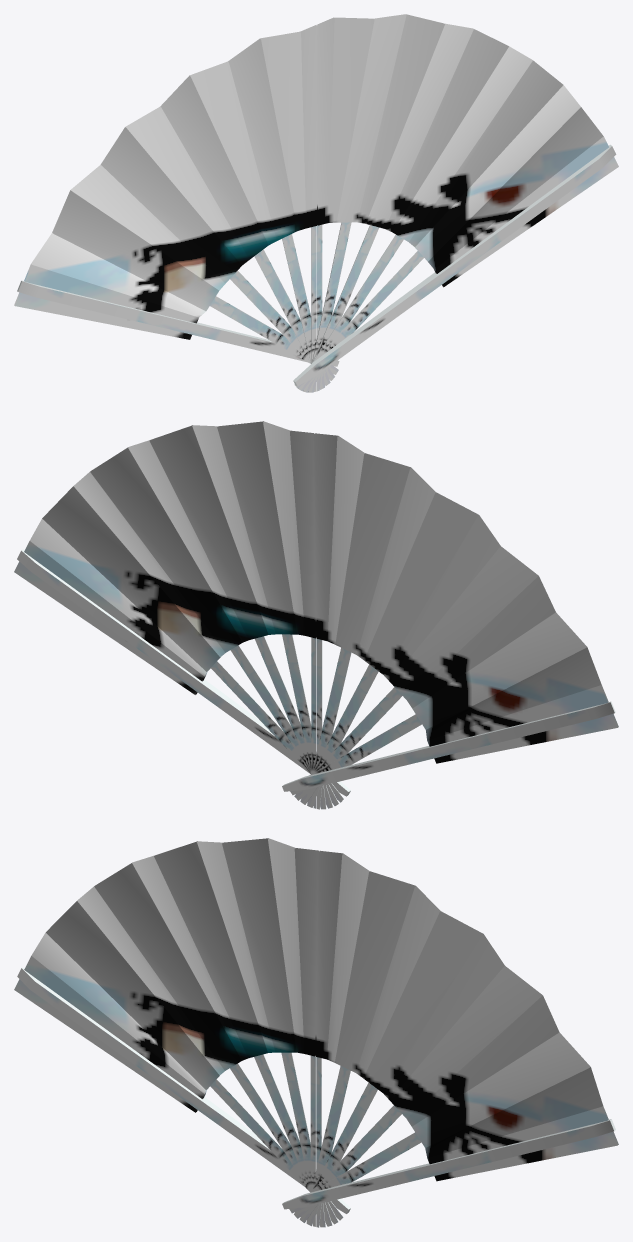
The model's file is delete.ico.obj.
3 renders of one model, top to bottom at view 1: azimuth 30°, elevation 25°; view 2: azimuth 150°, elevation 25°; view 3: azimuth 330°, elevation 25°, orthographic. The views are drawn at different scales.
Size of the model in its own units: 4.79 by 2.81 by 0.2039.
